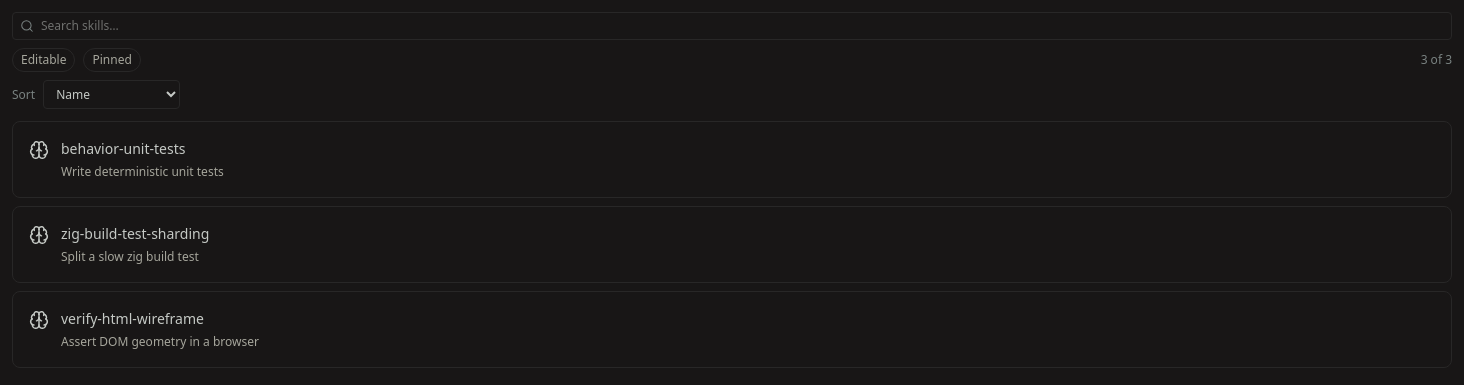
SkillList — clearing everything › resets query, facets and sort in one click
Type "zig" into the field with test id "skill-search-input" at (732,26), box [12,12,1452,40]
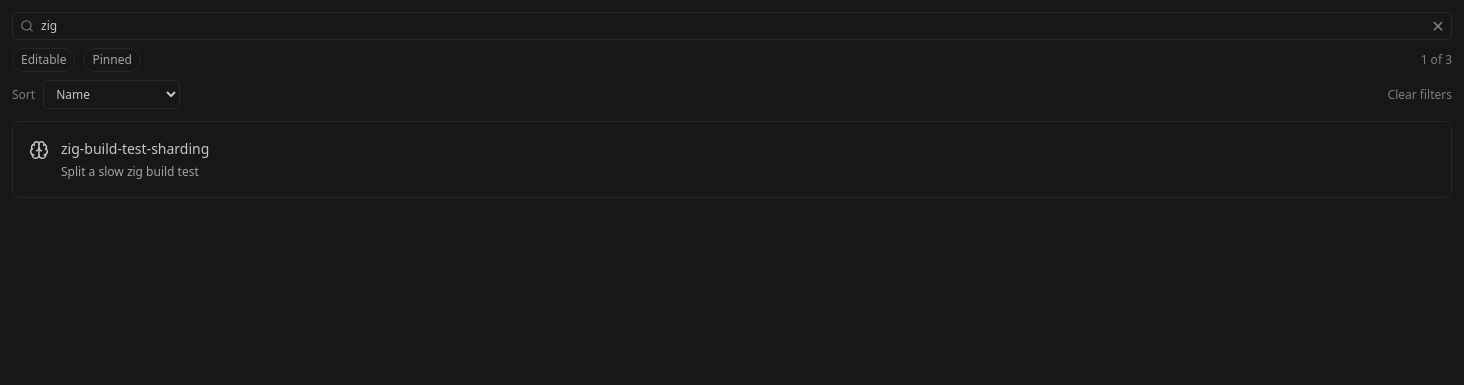
Click the button with test id "skill-facet-pinned" at (112,60), box [84,48,141,72]
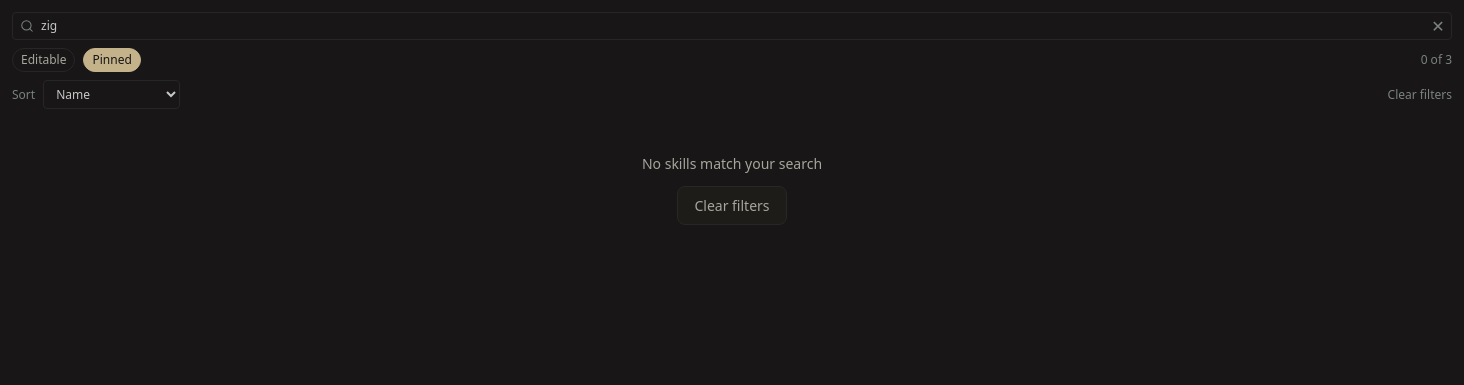
Select "Editable first" in the dropdown with test id "skill-sort-select" at (112,94), box [43,80,180,109]
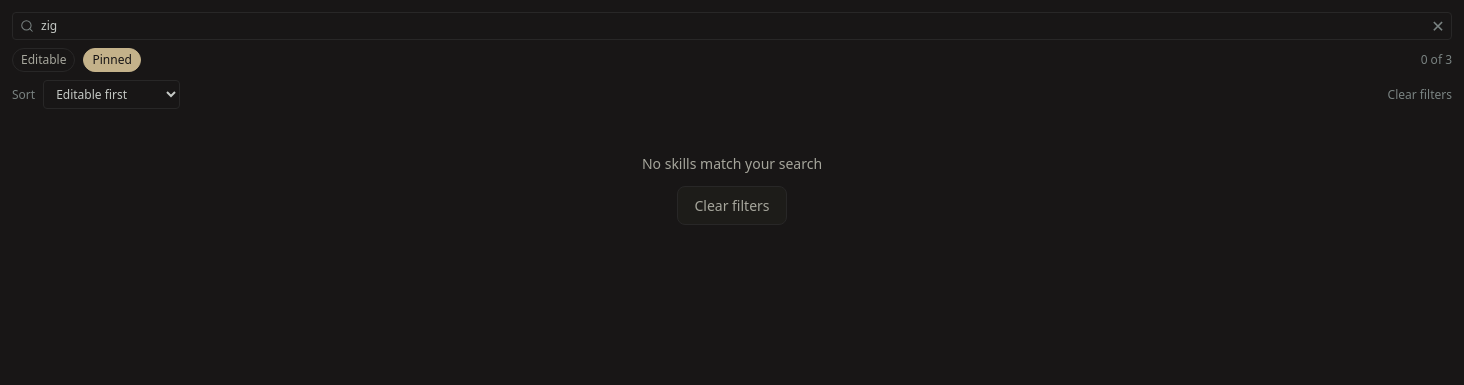
Click the button with test id "skill-clear-filters" at (1420,94), box [1388,86,1452,104]
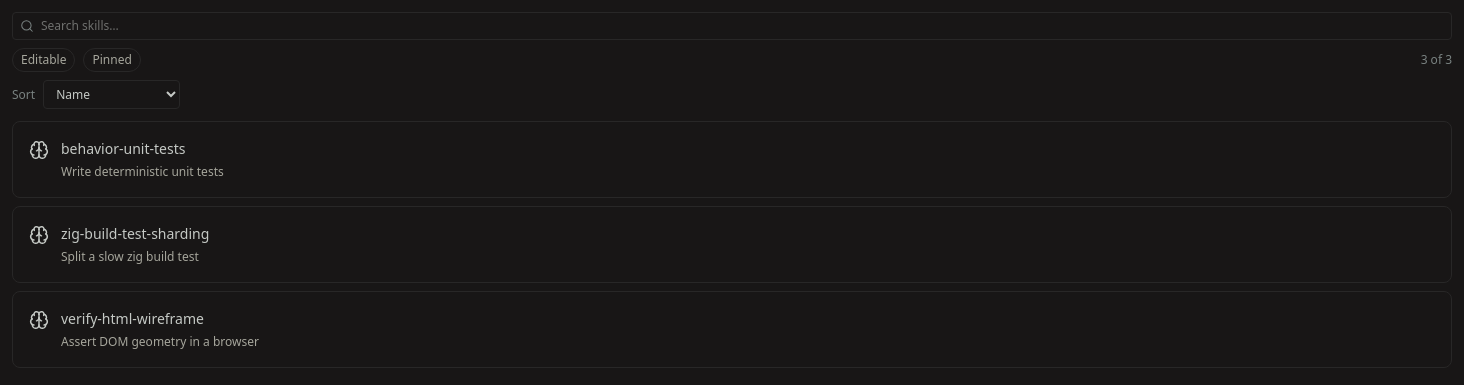
expect the field with test id "skill-search-input" is empty: met, box [12,12,1452,40]
